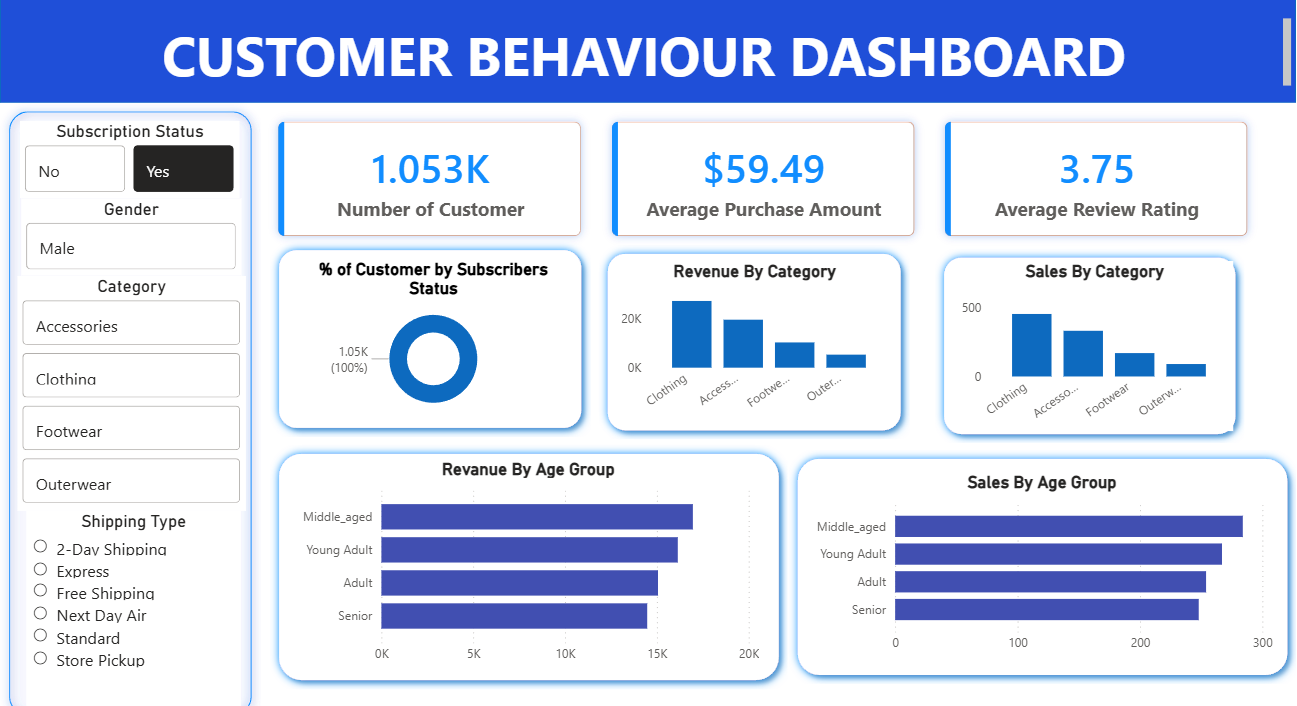

The page's visual inventory and layout, read from the dashboard file:
{"tool":"powerbi","page":{"name":"Page 1","canvas":[1280,720],"ordinal":0},"visuals":[{"type":"cardVisual","fields":{"Data":["public customer.Number of Customer","public customer.Average Purchase Amount","public customer.Average Review Rating"]},"box":[247,96.1,1014.9,169.6],"z":0},{"type":"shape","box":[0,1.4,1280,104.3],"z":1000},{"type":"textbox","box":[0,17.1,1280,78.6],"z":2000},{"type":"shape","box":[267.1,241.7,316.5,193.6],"z":3000},{"type":"donutChart","title":"% of Customer by Subscribers Status","fields":{"Category":["public customer.subscription_status"],"Y":["CountNonNull(public customer.customer_id)"]},"box":[300.5,259.1,256.4,160.2],"z":4000},{"type":"shape","box":[591.6,245.7,307.1,192.3],"z":5000},{"type":"shape","box":[924.1,249.7,305.8,192.3],"z":6000},{"type":"clusteredColumnChart","title":"Revanue By Category","fields":{"Y":["Sum(public customer.purchase_amount)"],"Category":["public customer.category"]},"box":[608.9,261.7,273.7,157.6],"z":7000},{"type":"clusteredColumnChart","title":"Sales By Category","fields":{"Category":["public customer.category"],"Y":["CountNonNull(public customer.customer_id)"]},"box":[944.1,261.7,273.7,168.3],"z":8000},{"type":"shape","box":[0,105,257.5,615],"z":9000},{"type":"advancedSlicerVisual","title":"Subscription Status","fields":{"Values":["public customer.subscription_status"]},"box":[20,122.9,217.1,75.7],"z":10000},{"type":"advancedSlicerVisual","title":"Gender","fields":{"Values":["public customer.gender"]},"box":[17.1,198.6,225.7,77.1],"z":11000},{"type":"advancedSlicerVisual","title":"Category","fields":{"Values":["public customer.category"]},"box":[17.1,274.3,225.7,234.3],"z":12000},{"type":"listSlicer","title":"Shipping Type","fields":{"Values":["public customer.shipping_type"]},"box":[25.7,508.6,211.4,211.4],"z":13000},{"type":"shape","box":[267.1,442.9,511.4,241.4],"z":15000},{"type":"clusteredBarChart","title":"Revanue By Age Group","fields":{"Y":["Sum(public customer.purchase_amount)"],"Category":["public customer.age_group"]},"box":[288.6,457.1,465.7,211.4],"z":15001},{"type":"shape","box":[778.6,448.6,501.4,231.4],"z":15002},{"type":"clusteredBarChart","title":"Sales By Age Group","fields":{"Y":["CountNonNull(public customer.customer_id)"],"Category":["public customer.age_group"]},"box":[795.7,470,465.7,187.1],"z":15003}]}

Visuals, with their boxes on the page's 1280x720 design canvas (x1, y1, x2, y2). These are canvas units, not pixel positions in the 1297x706 screenshot, which may show the page scaled, cropped or inside an application window:
cardVisual - public customer.Number of Customer x public customer.Average Purchase Amount: select_region(247, 96, 1262, 266)
shape: select_region(0, 1, 1280, 106)
textbox: select_region(0, 17, 1280, 96)
shape: select_region(267, 242, 584, 435)
"% of Customer by Subscribers Status" donutChart: select_region(300, 259, 557, 419)
shape: select_region(592, 246, 899, 438)
shape: select_region(924, 250, 1230, 442)
"Revanue By Category" clusteredColumnChart: select_region(609, 262, 883, 419)
"Sales By Category" clusteredColumnChart: select_region(944, 262, 1218, 430)
shape: select_region(0, 105, 258, 720)
"Subscription Status" advancedSlicerVisual: select_region(20, 123, 237, 199)
"Gender" advancedSlicerVisual: select_region(17, 199, 243, 276)
"Category" advancedSlicerVisual: select_region(17, 274, 243, 509)
"Shipping Type" listSlicer: select_region(26, 509, 237, 720)
shape: select_region(267, 443, 778, 684)
"Revanue By Age Group" clusteredBarChart: select_region(289, 457, 754, 668)
shape: select_region(779, 449, 1280, 680)
"Sales By Age Group" clusteredBarChart: select_region(796, 470, 1261, 657)
